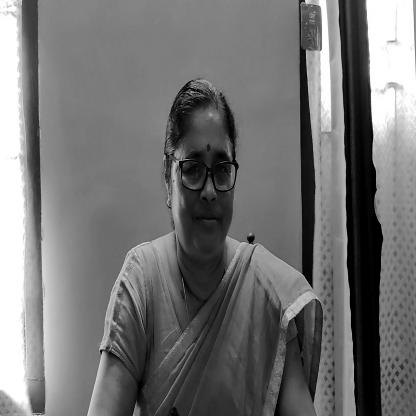Normal: (164, 92, 244, 266)
